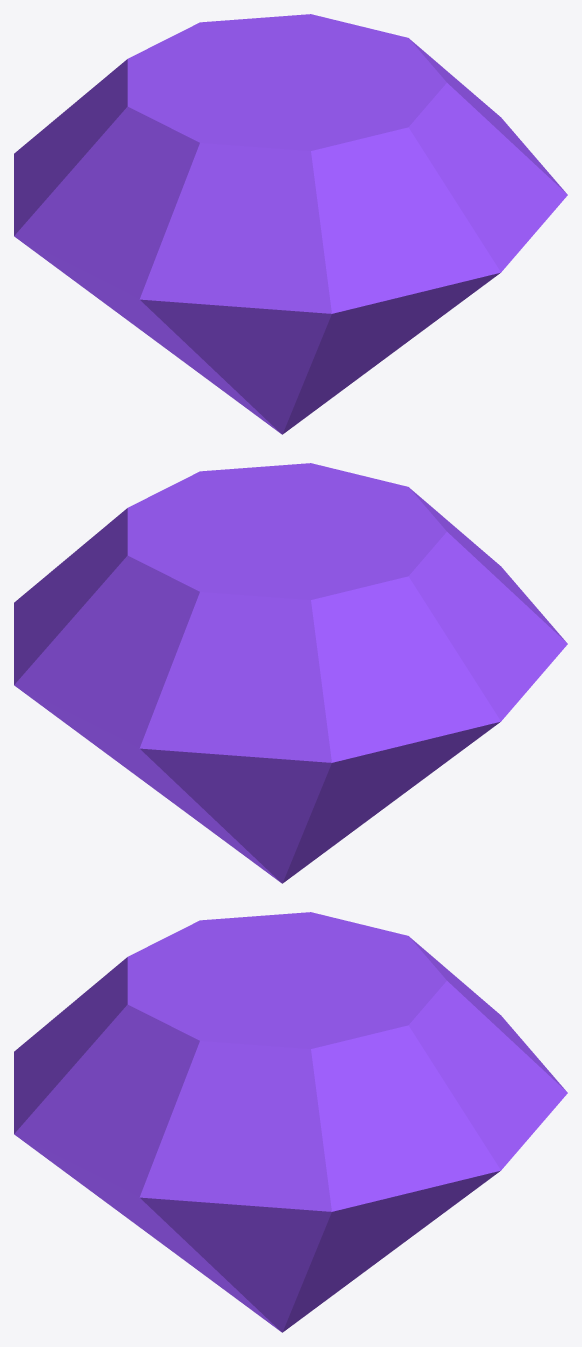
File: Crystal Violet.fbx
The picture shows the model from 3 angles, top to bottom: view 1: azimuth 30°, elevation 25°; view 2: azimuth 150°, elevation 25°; view 3: azimuth 270°, elevation 25°; orthographic projection.
Visible parts, largest first — view 1: Crystal Violet; view 2: Crystal Violet; view 3: Crystal Violet.
Part boxes in pixels (x1,y1,x2,y2): Crystal Violet: (14, 14, 567, 434); Crystal Violet: (14, 463, 567, 883); Crystal Violet: (14, 912, 567, 1332).
Size of the model in its own units: 93.7 by 64.74 by 92.27.
